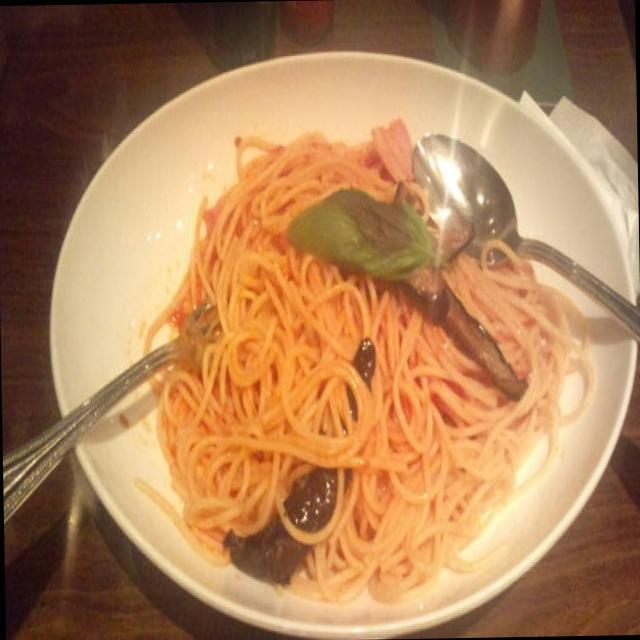Pasta: (148, 146, 546, 584)
